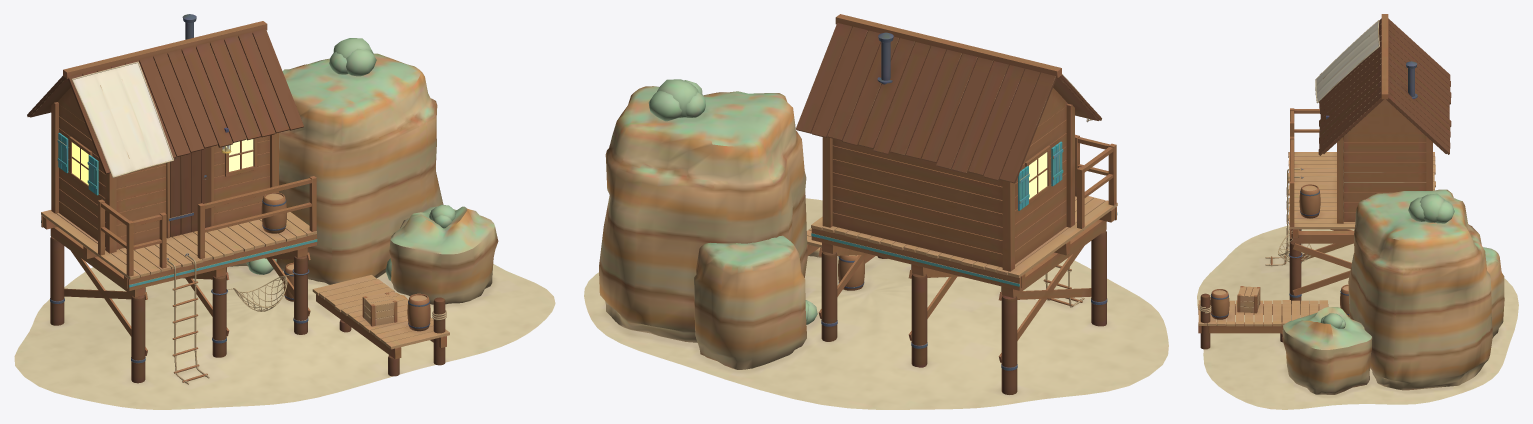
The model's file is grab3d-pirate-hideout.glb.
3 views of the same model, side by side, from view 1: azimuth 30°, elevation 25°; view 2: azimuth 150°, elevation 25°; view 3: azimuth 270°, elevation 25° (orthographic). The views are drawn at different scales.
Visible parts, largest first — view 1: pirate-hideout_body, pirate-hideout_window_glow; view 2: pirate-hideout_body, pirate-hideout_window_glow; view 3: pirate-hideout_body.
Boxes of the visible parts, box(x1,y1,x2,y2) form: pirate-hideout_body: box(14, 14, 555, 409); pirate-hideout_window_glow: box(72, 139, 253, 184); pirate-hideout_body: box(584, 14, 1168, 409); pirate-hideout_window_glow: box(1029, 152, 1047, 199); pirate-hideout_body: box(1197, 14, 1518, 409).
Bounding box in the file's own units: 9.48 × 5.41 × 6.68.
Materials: 5 (1 with a texture image).
